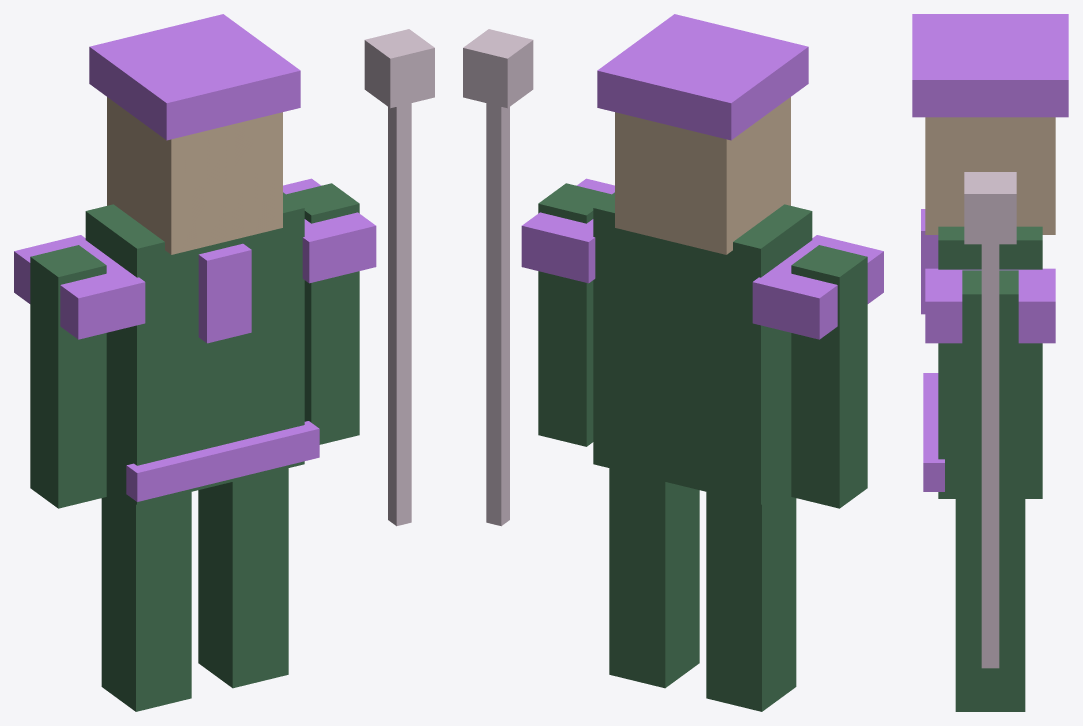
The model's file is 12_soren_gearmantle_responder_at.glb.
The picture shows the model from 3 angles, left to right: view 1: azimuth 30°, elevation 25°; view 2: azimuth 150°, elevation 25°; view 3: azimuth 270°, elevation 25°; orthographic projection.
Visible parts, largest first — view 1: Soren Gearmantle, Responder at; view 2: Soren Gearmantle, Responder at; view 3: Soren Gearmantle, Responder at.
Boxes of the visible parts, x1,y1,x2,y2 form: Soren Gearmantle, Responder at: (14,14,434,711); Soren Gearmantle, Responder at: (463,14,883,711); Soren Gearmantle, Responder at: (912,14,1068,711).
Bounding box in the file's own units: 1.02 × 1.6 × 0.36.
